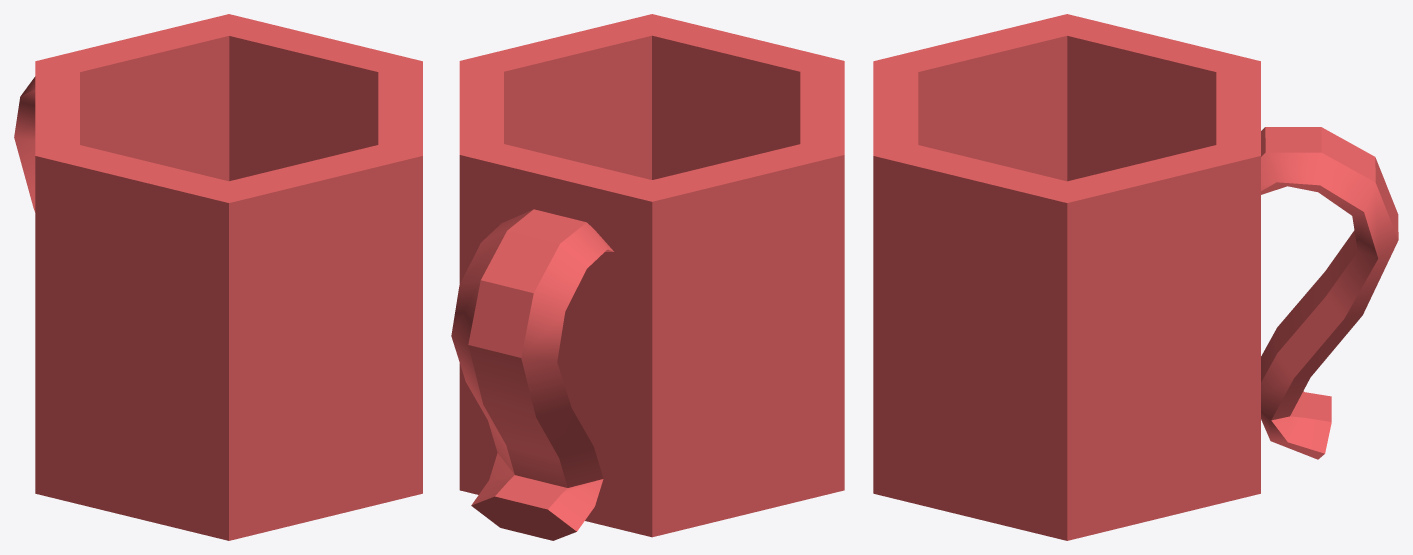
The model's file is Mug_Mesh.fbx.
3 renders of one model, left to right at view 1: azimuth 30°, elevation 25°; view 2: azimuth 150°, elevation 25°; view 3: azimuth 270°, elevation 25°, orthographic.
Parts seen in each view (by area): view 1: pCylinder6; view 2: pCylinder6; view 3: pCylinder6.
Part boxes in pixels (x1,y1,x2,y2): pCylinder6: [14, 14, 422, 540]; pCylinder6: [451, 14, 844, 540]; pCylinder6: [873, 14, 1398, 540].
Size of the model in its own units: 2 by 1.67 by 2.35.
